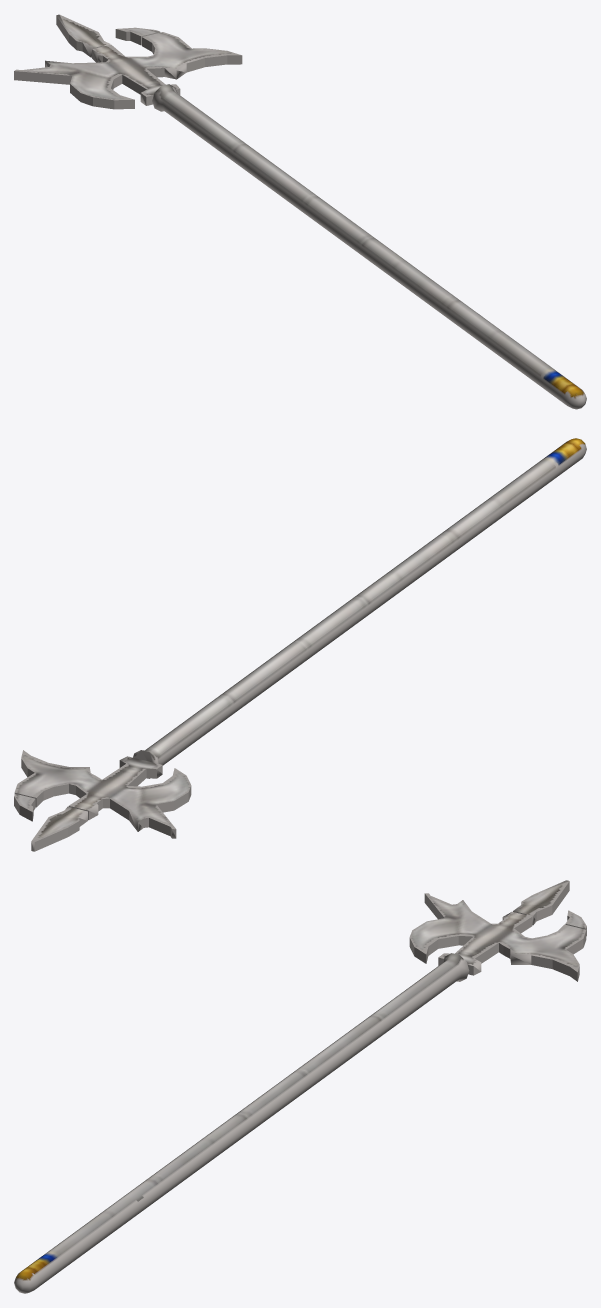
The model's file is item_mm9_10064.glb.
3 renders of one model, top to bottom at view 1: azimuth 30°, elevation 25°; view 2: azimuth 150°, elevation 25°; view 3: azimuth 330°, elevation 25°, orthographic. The views are drawn at different scales.
Parts seen in each view (by area): view 1: d10064; view 2: d10064; view 3: d10064.
Boxes of the visible parts, left/top/right/bottom form: d10064: left=14, top=14, right=586, bottom=409; d10064: left=14, top=438, right=586, bottom=851; d10064: left=14, top=880, right=586, bottom=1293.
Size of the model in its own units: 52.39 by 6.87 by 254.
Materials: 1 (1 with a texture image).
